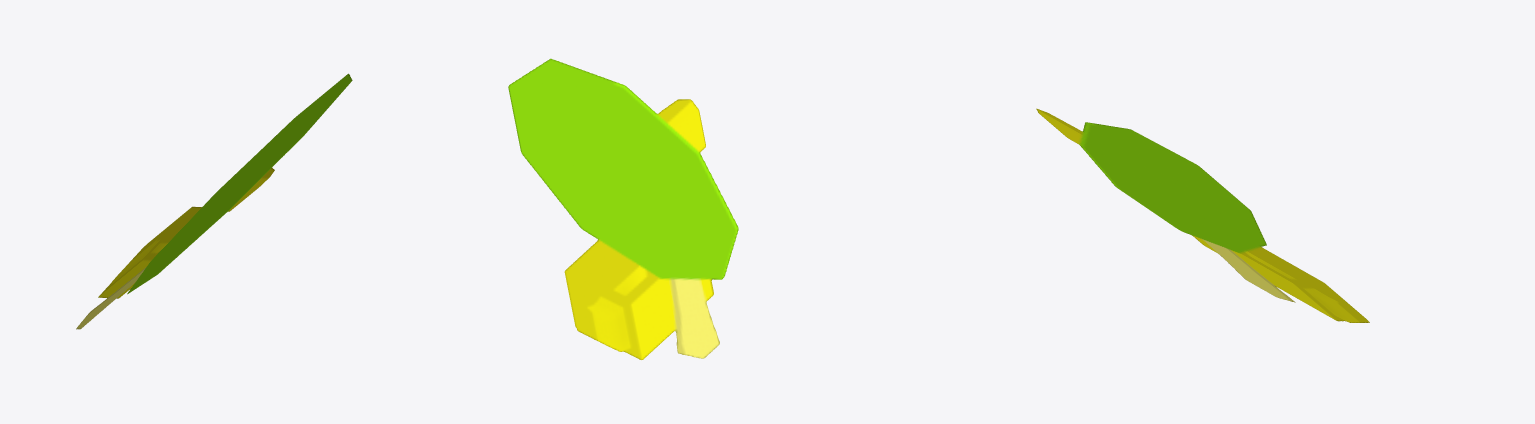
The model's file is Traps_spriteplane_TEST.FBX.
3 views of the same model, side by side, from view 1: azimuth 30°, elevation 25°; view 2: azimuth 150°, elevation 25°; view 3: azimuth 270°, elevation 25° (orthographic). The views are drawn at different scales.
Parts seen in each view (by area): view 1: Traps; view 2: Traps; view 3: Traps.
Boxes of the visible parts, <box> form: Traps: <box>76,73,352,329</box>; Traps: <box>508,58,738,359</box>; Traps: <box>1036,108,1369,322</box>.
Size of the model in its own units: 156 by 95.38 by 156.
Materials: 1 (1 with a texture image).
